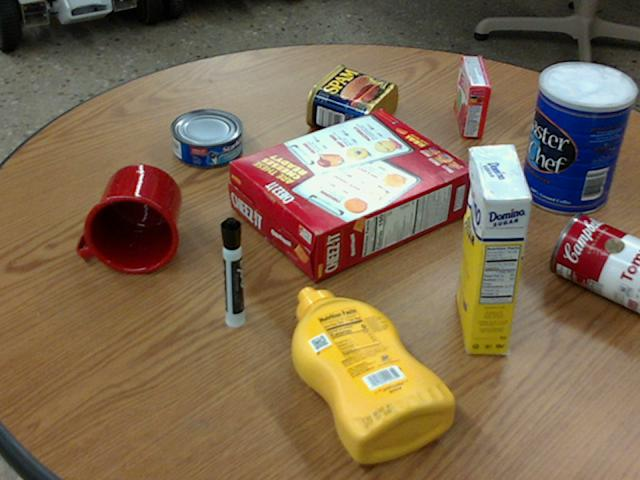cracker_box: (228, 109, 471, 281)
gelatin_box: (455, 56, 490, 136)
large_marker: (219, 216, 243, 327)
master_chef_can: (521, 62, 635, 214)
mug: (77, 164, 179, 273)
mustard_bottle: (291, 287, 454, 462)
potted_meat_can: (306, 64, 397, 139)
sugar_box: (459, 143, 530, 354)
tomato_soup_can: (550, 211, 639, 311)
tuna_fish_can: (170, 108, 241, 166)
